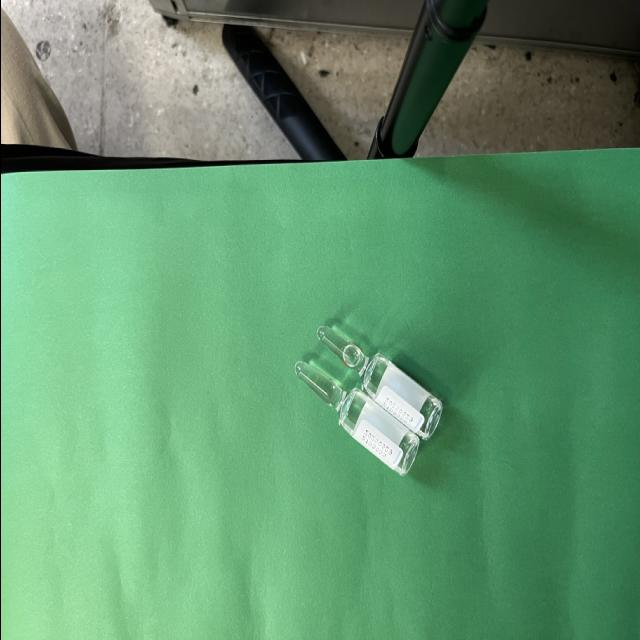Ampoules: (316, 325, 442, 439), (294, 361, 418, 475)
